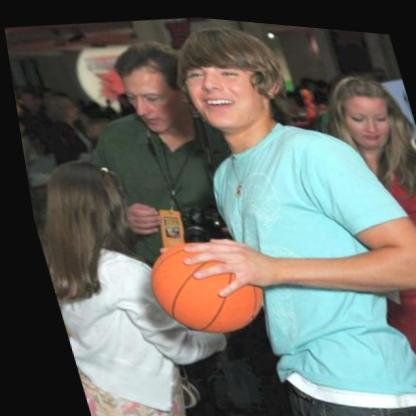basketball: (130, 228, 261, 340)
